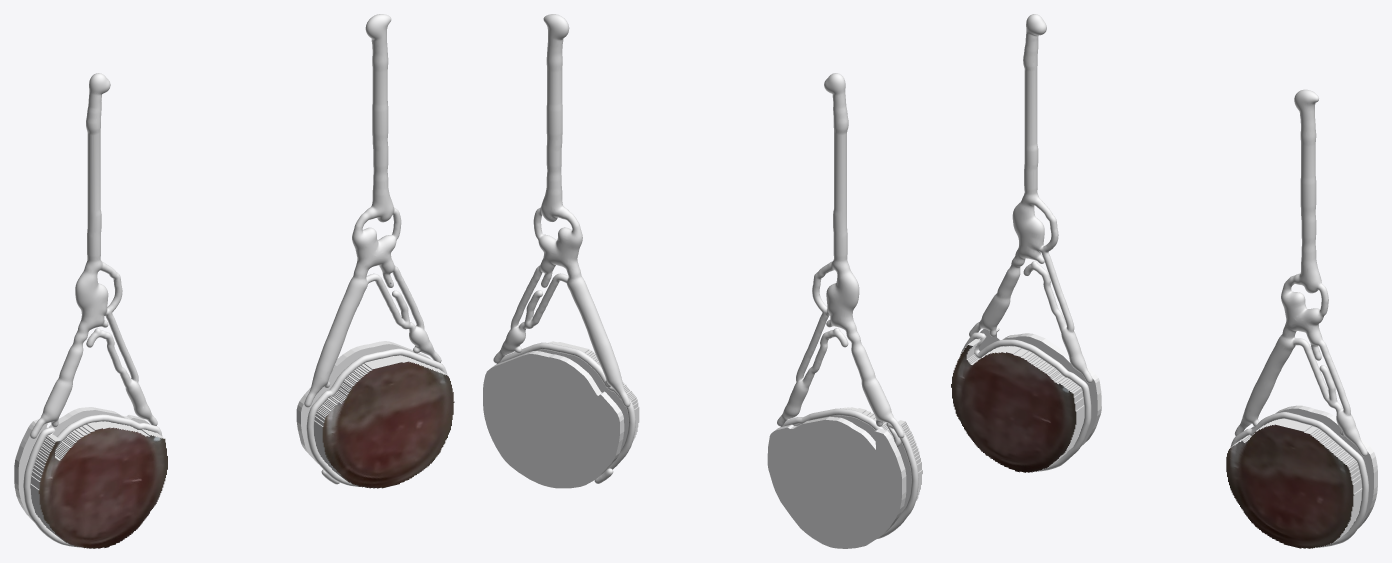
3 renders of one model, left to right at view 1: azimuth 30°, elevation 25°; view 2: azimuth 150°, elevation 25°; view 3: azimuth 330°, elevation 25°, orthographic. The views are drawn at different scales.
Visible parts, largest first — view 1: joya; view 2: joya; view 3: joya.
Boxes of the visible parts, x1=… form: joya: x1=14, y1=14, x2=454, y2=548; joya: x1=483, y1=14, x2=922, y2=548; joya: x1=951, y1=14, x2=1377, y2=548.
Bounding box in the file's own units: 0.0353 × 0.0377 × 0.00325.
Materials: 3 (1 with a texture image).
